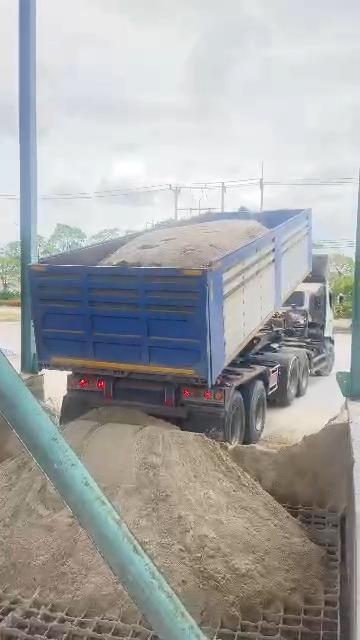sand: (65, 410, 324, 624), (0, 455, 128, 613), (229, 412, 352, 512), (101, 219, 267, 267), (0, 415, 24, 463)
